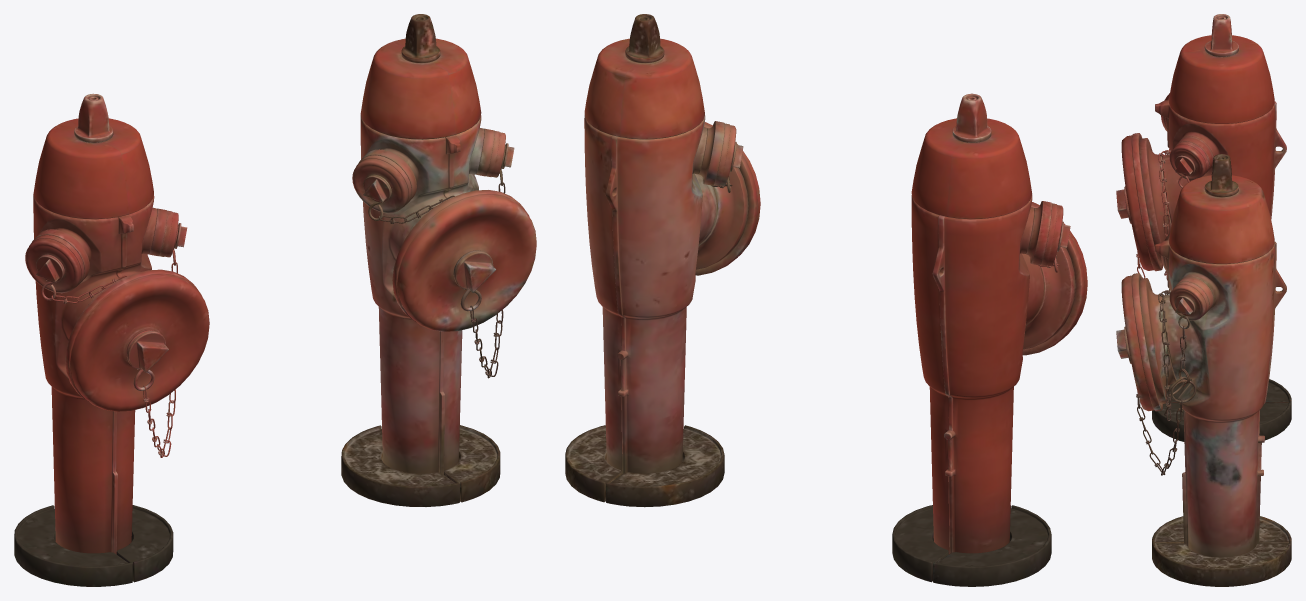
The model's file is fire_hydrant.glb.
The picture shows the model from 3 angles, left to right: view 1: azimuth 30°, elevation 25°; view 2: azimuth 150°, elevation 25°; view 3: azimuth 270°, elevation 25°; orthographic projection. The views are drawn at different scales.
Visible parts, largest first — view 1: fire_hydrant, fire_hydrant_aged; view 2: fire_hydrant, fire_hydrant_aged; view 3: fire_hydrant_aged, fire_hydrant.
Part boxes in pixels (x1=…): fire_hydrant: x1=14, y1=93, x2=209, y2=586; fire_hydrant_aged: x1=341, y1=14, x2=536, y2=506; fire_hydrant: x1=892, y1=93, x2=1087, y2=586; fire_hydrant_aged: x1=565, y1=14, x2=760, y2=507; fire_hydrant_aged: x1=1116, y1=154, x2=1291, y2=586; fire_hydrant: x1=1116, y1=14, x2=1291, y2=441.
Size of the model in its own units: 0.8747 by 0.7995 by 0.3178.
Materials: 2 (2 with a texture image).
